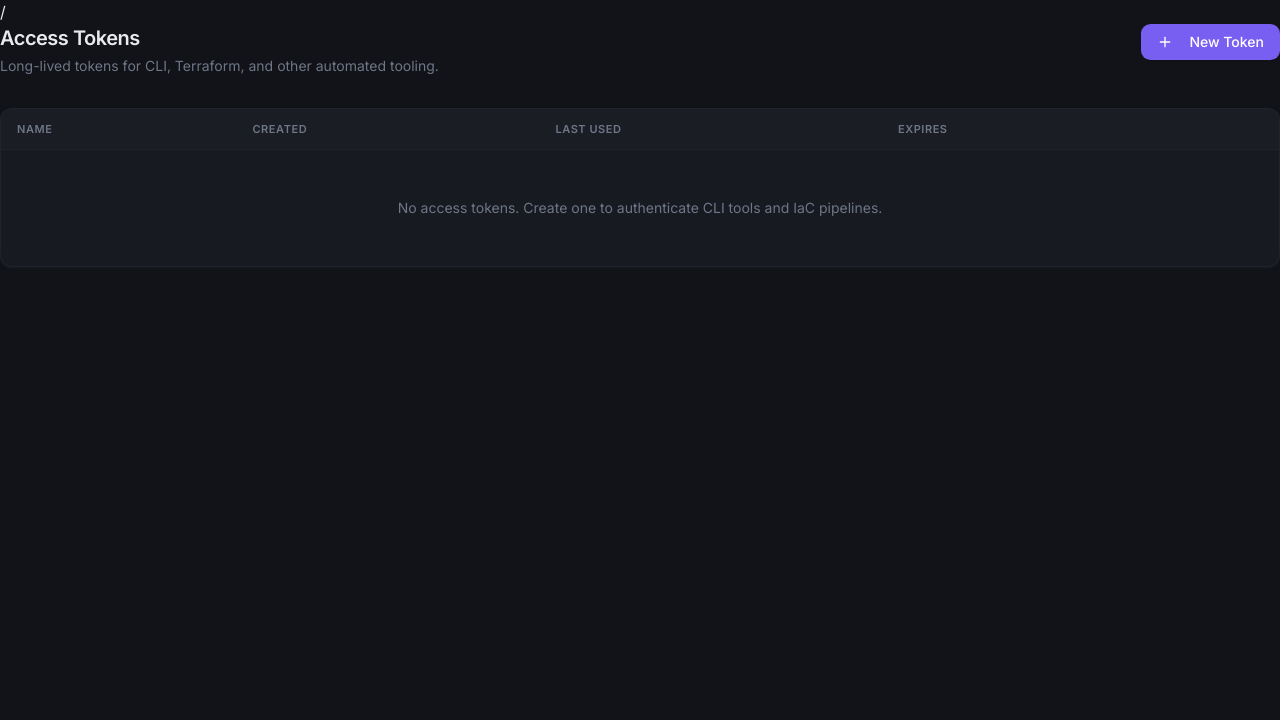
it: AccessTokensPage › requires a name before a token can be created
Click the button "New Token" at (1211,42), box [1141,24,1279,60]
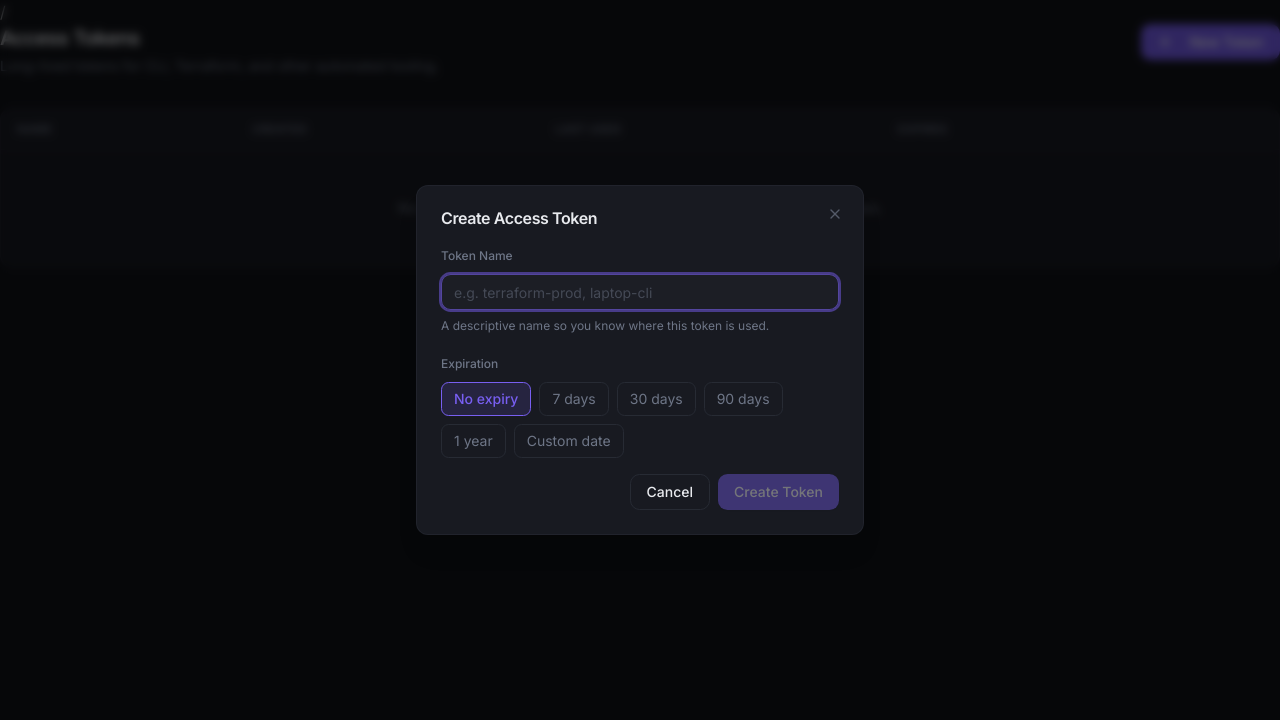
Now the button "Create Token" is disabled, box [718,474,839,510]
